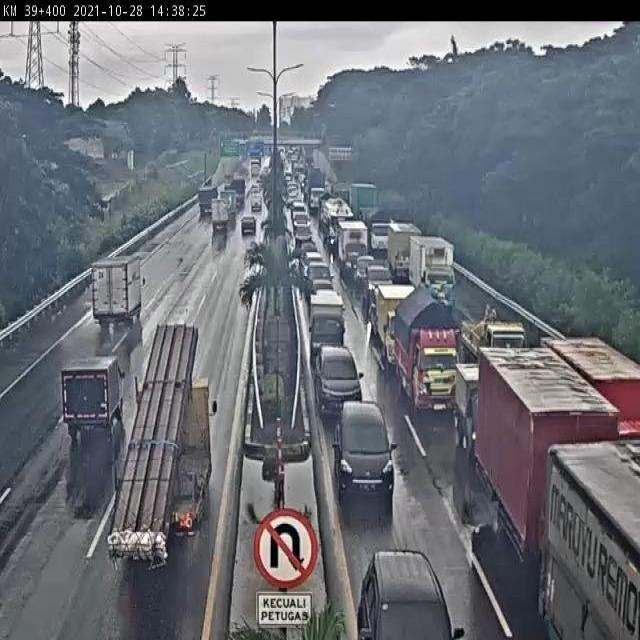big truck: (479, 344, 611, 577), (537, 434, 639, 640), (543, 333, 640, 440), (463, 300, 530, 371)
car: (357, 540, 441, 640), (337, 394, 401, 502), (317, 345, 378, 420), (367, 260, 392, 295), (306, 262, 340, 282), (356, 258, 376, 286), (240, 213, 256, 235), (310, 279, 334, 293), (306, 251, 328, 265)
small truck: (112, 377, 217, 543), (396, 292, 462, 421), (60, 344, 123, 444), (376, 284, 438, 369), (90, 254, 152, 330), (411, 238, 466, 318), (458, 363, 499, 456), (309, 291, 351, 357), (390, 220, 419, 281), (210, 199, 233, 232), (194, 186, 220, 213)
